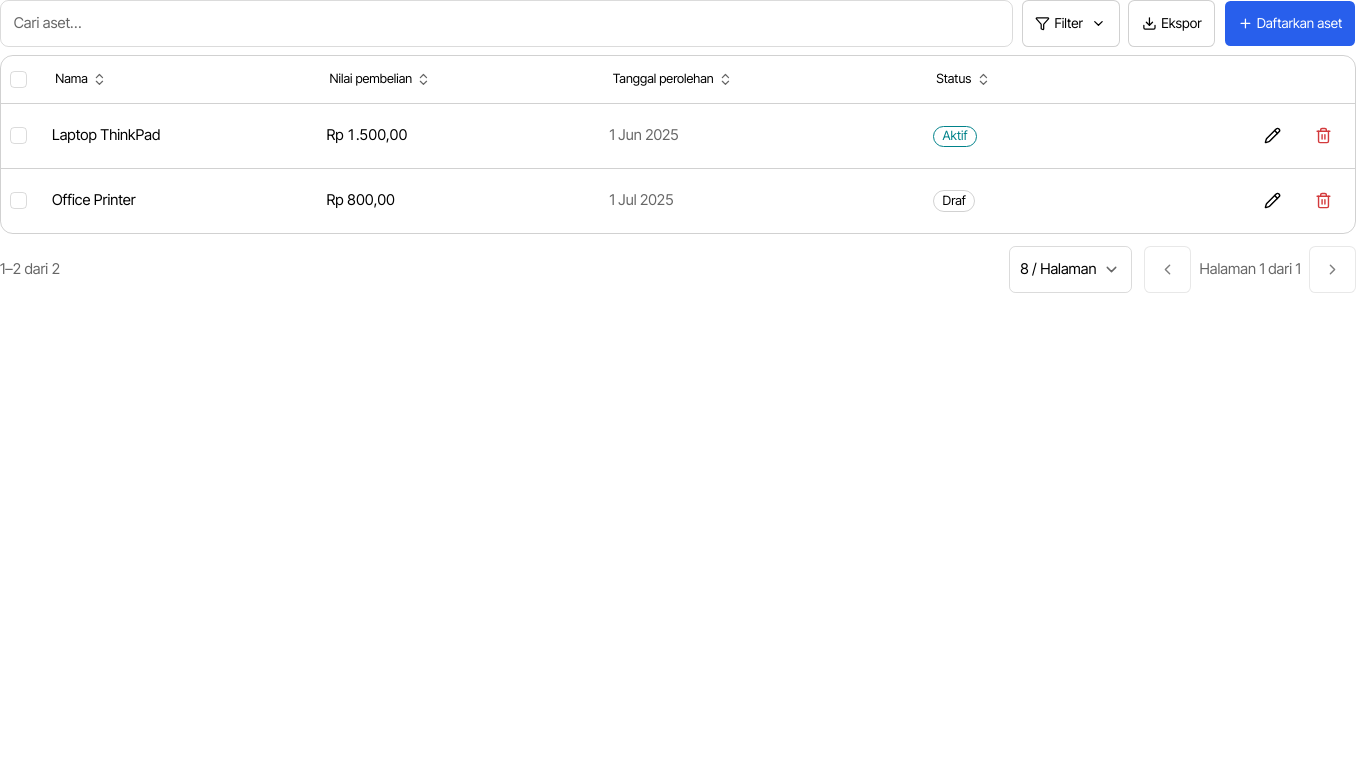
Test: FixedAssetsSection › opens the register dialog from the add button
Expected: the link "Laptop ThinkPad" is shown, [52,126,160,144]
Click the button "Daftarkan aset" at coordinates (1290, 23), box [1224,0,1356,47]
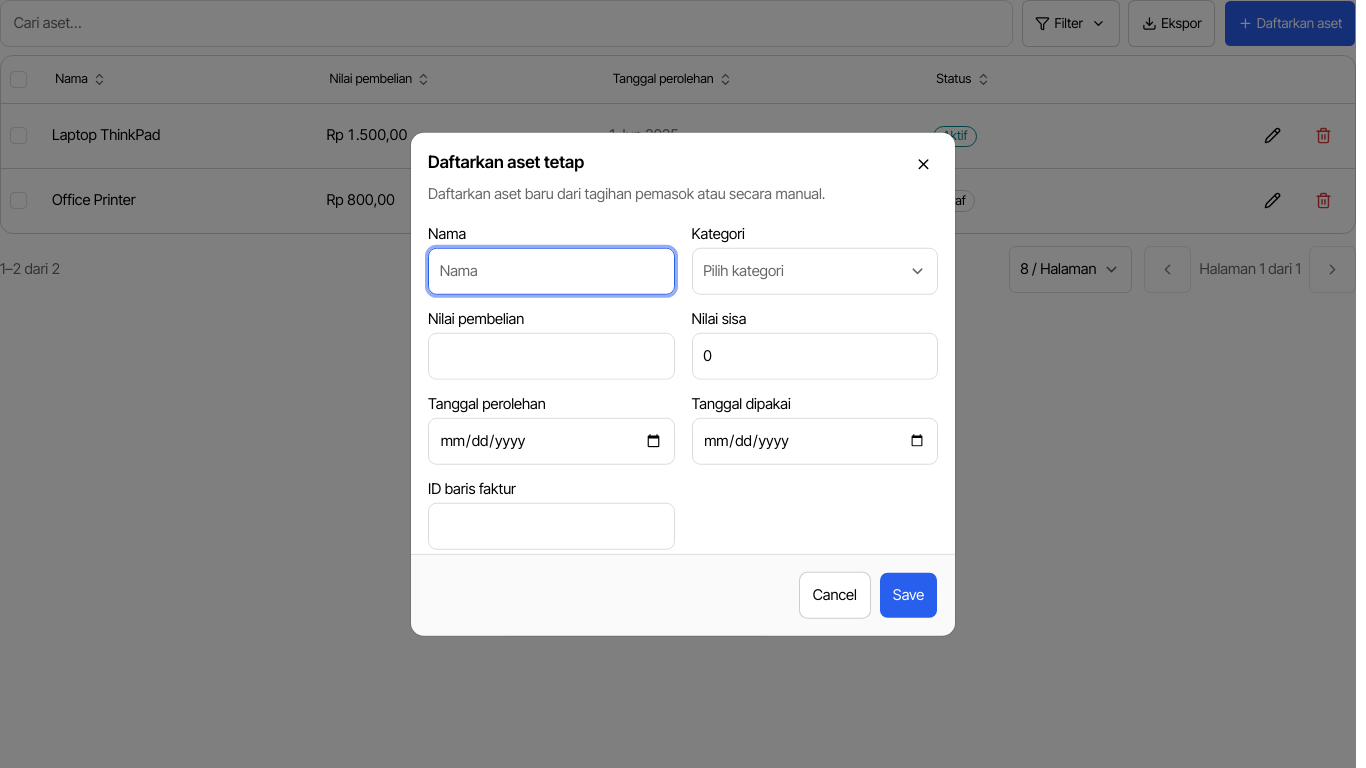
Expected: the dialog is shown, [411,133,955,635]
